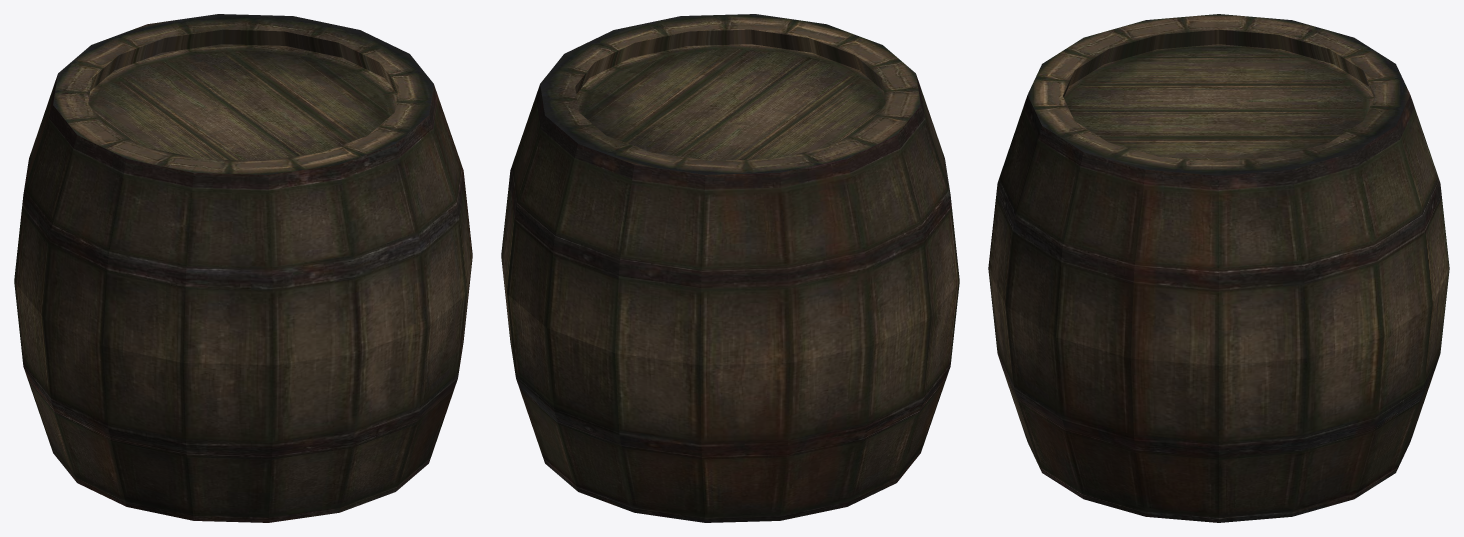
File: BarrelV1.fbx
3 views of the same model, side by side, from view 1: azimuth 30°, elevation 25°; view 2: azimuth 150°, elevation 25°; view 3: azimuth 270°, elevation 25° (orthographic).
Visible parts, largest first — view 1: Barrel; view 2: Barrel; view 3: Barrel.
Part boxes in pixels (x1,y1,x2,y2): Barrel: (14, 14, 472, 522); Barrel: (501, 14, 959, 522); Barrel: (988, 14, 1449, 522).
Size of the model in its own units: 297 by 247 by 297.
Materials: 1 (1 with a texture image).
